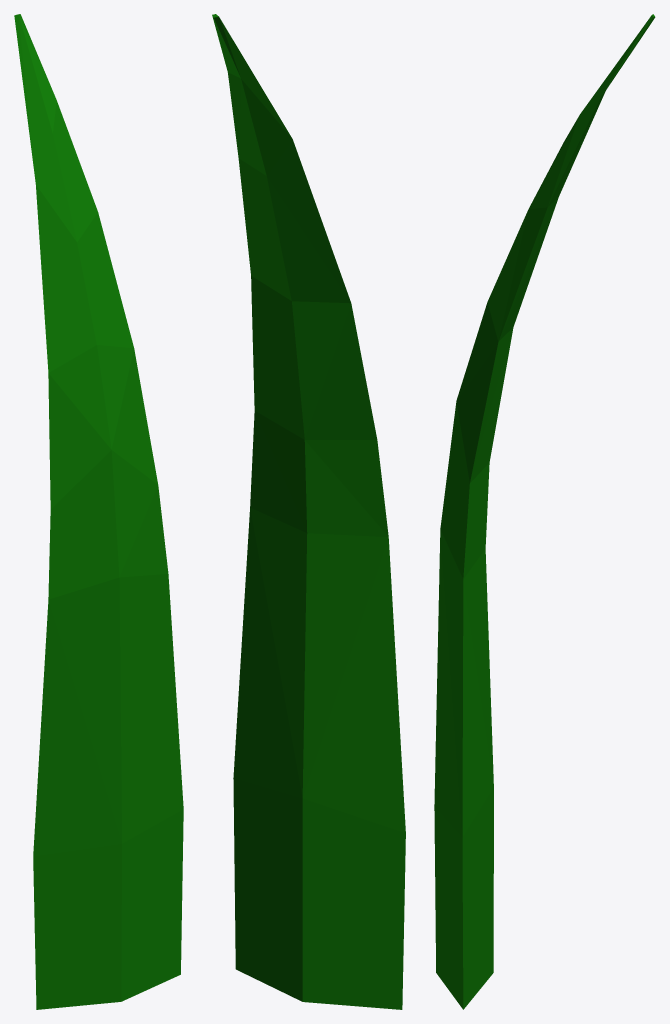
The model's file is stm_prop_grass_wall_35deg.fbx.
3 renders of one model, left to right at view 1: azimuth 30°, elevation 25°; view 2: azimuth 150°, elevation 25°; view 3: azimuth 270°, elevation 25°, orthographic. The views are drawn at different scales.
Parts seen in each view (by area): view 1: Loft; view 2: Loft; view 3: Loft.
Part boxes in pixels (x1=…): Loft: x1=14, y1=14, x2=183, y2=1009; Loft: x1=212, y1=14, x2=405, y2=1009; Loft: x1=434, y1=14, x2=655, y2=1009.
Size of the model in its own units: 193 by 1123 by 235.
